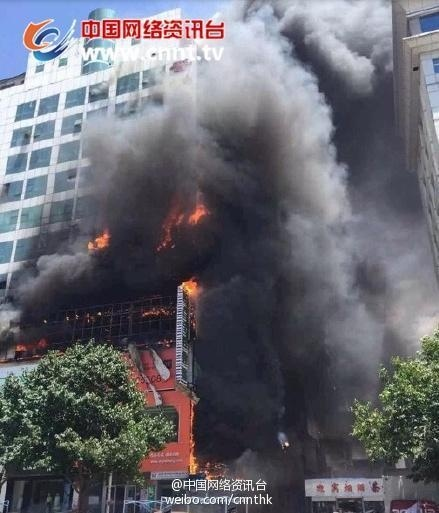fire: (13, 338, 49, 355), (87, 229, 110, 250), (178, 277, 200, 295), (140, 304, 169, 317)
